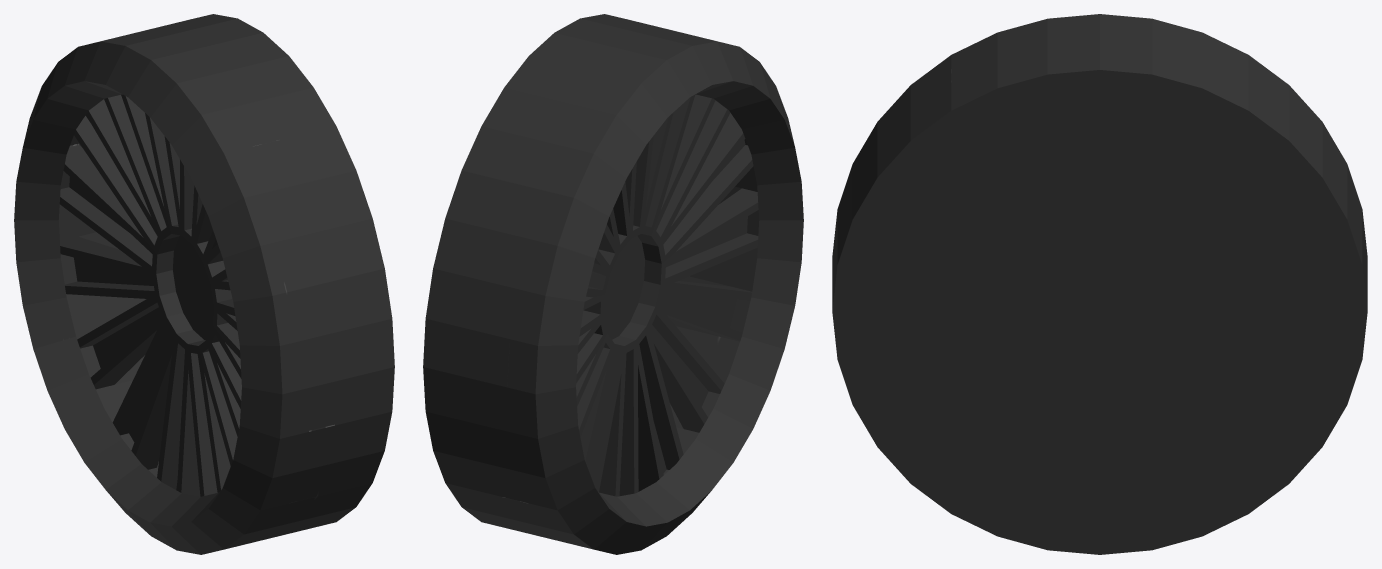
File: wheel.fbx
3 views of the same model, side by side, from view 1: azimuth 30°, elevation 25°; view 2: azimuth 150°, elevation 25°; view 3: azimuth 270°, elevation 25° (orthographic).
Visible parts, largest first — view 1: Cylinder; view 2: Cylinder; view 3: Cylinder.
Part boxes in pixels (x1,y1,x2,y2): Cylinder: (14,14,394,554); Cylinder: (423,14,803,554); Cylinder: (832,14,1367,554).
Bounding box in the file's own units: 40.1 × 135 × 135.
Materials: 1 (1 with a texture image).
